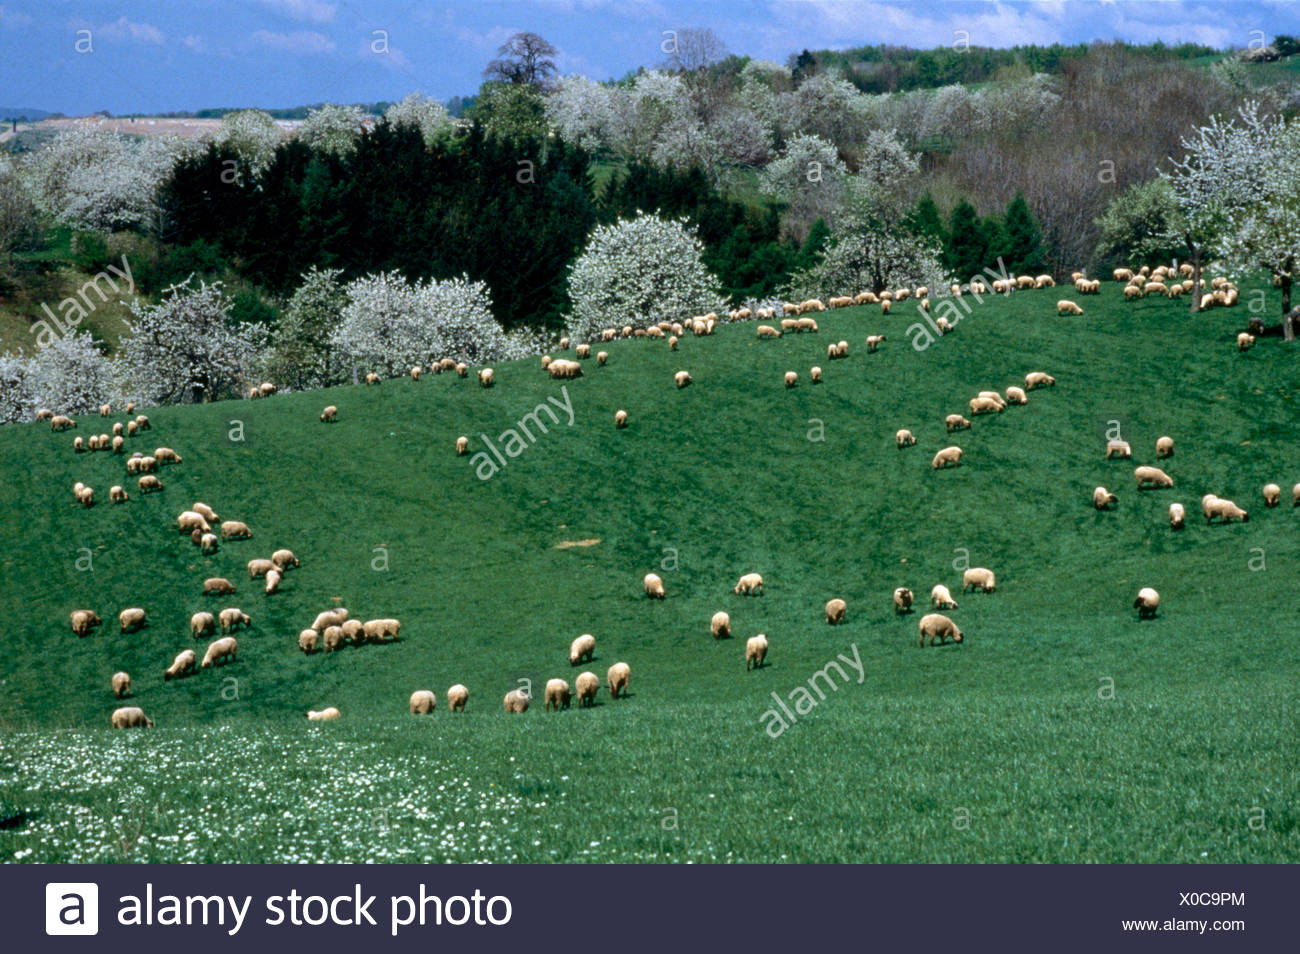sheep: (1202, 493, 1249, 528), (201, 635, 238, 671), (112, 705, 154, 734), (162, 648, 198, 681), (1134, 463, 1174, 493), (544, 677, 574, 714), (1131, 585, 1162, 621), (310, 607, 350, 633), (573, 671, 601, 709), (963, 564, 996, 595), (218, 607, 252, 636), (175, 510, 211, 536), (746, 632, 770, 671), (366, 616, 403, 641), (567, 635, 598, 664), (119, 606, 149, 634), (967, 395, 1003, 418), (321, 623, 346, 656), (929, 446, 963, 470), (931, 584, 959, 612), (190, 610, 217, 638), (444, 683, 471, 712), (503, 688, 530, 716), (1105, 437, 1134, 462), (341, 618, 365, 648), (733, 574, 764, 598), (409, 688, 436, 715), (1093, 486, 1120, 512), (823, 597, 848, 625), (709, 610, 733, 639), (221, 521, 254, 542), (201, 576, 238, 595), (248, 558, 284, 577), (270, 546, 301, 568), (304, 707, 342, 724), (643, 572, 666, 601), (1026, 369, 1055, 393), (1154, 432, 1175, 462), (109, 672, 134, 698), (893, 587, 915, 615), (1167, 502, 1187, 532), (297, 628, 319, 655), (193, 501, 220, 523), (944, 414, 970, 436), (154, 446, 183, 466), (893, 429, 918, 451), (69, 609, 88, 637), (1056, 299, 1084, 318), (138, 474, 164, 495), (1262, 486, 1283, 509), (1005, 385, 1028, 406), (1144, 282, 1170, 300), (49, 414, 77, 431), (109, 484, 132, 503), (138, 454, 159, 474), (318, 405, 338, 426), (264, 570, 281, 597), (201, 533, 220, 554), (1237, 332, 1257, 351), (866, 334, 886, 352), (755, 326, 782, 339), (675, 370, 693, 390), (1113, 267, 1135, 282), (566, 361, 585, 379), (1036, 273, 1056, 289), (646, 325, 666, 341), (796, 318, 818, 333), (455, 436, 470, 456), (1124, 285, 1143, 301), (782, 302, 800, 318), (858, 291, 878, 305), (78, 485, 92, 505), (937, 317, 953, 334), (1199, 292, 1214, 310), (1225, 288, 1240, 306), (260, 383, 279, 398), (614, 410, 628, 429), (734, 308, 751, 323), (479, 368, 495, 386), (1018, 275, 1037, 289), (835, 296, 855, 308), (136, 415, 152, 430), (784, 372, 799, 388), (111, 435, 125, 452), (808, 366, 822, 385), (35, 409, 55, 421), (1168, 283, 1183, 298), (551, 360, 566, 376), (125, 456, 139, 472), (595, 351, 610, 367), (576, 343, 590, 359), (895, 287, 910, 301), (455, 363, 470, 378), (826, 343, 839, 359), (880, 299, 892, 316), (693, 318, 705, 336), (73, 482, 84, 499), (672, 323, 684, 338), (541, 355, 553, 370), (73, 435, 84, 451), (915, 286, 929, 299), (993, 281, 1006, 294), (99, 402, 111, 416), (1090, 279, 1101, 294), (128, 421, 139, 435), (1081, 279, 1091, 294), (411, 366, 421, 382), (880, 289, 892, 301), (112, 423, 124, 435), (705, 320, 715, 334), (88, 435, 98, 449), (1151, 273, 1165, 283), (249, 388, 259, 400), (922, 300, 931, 313)
